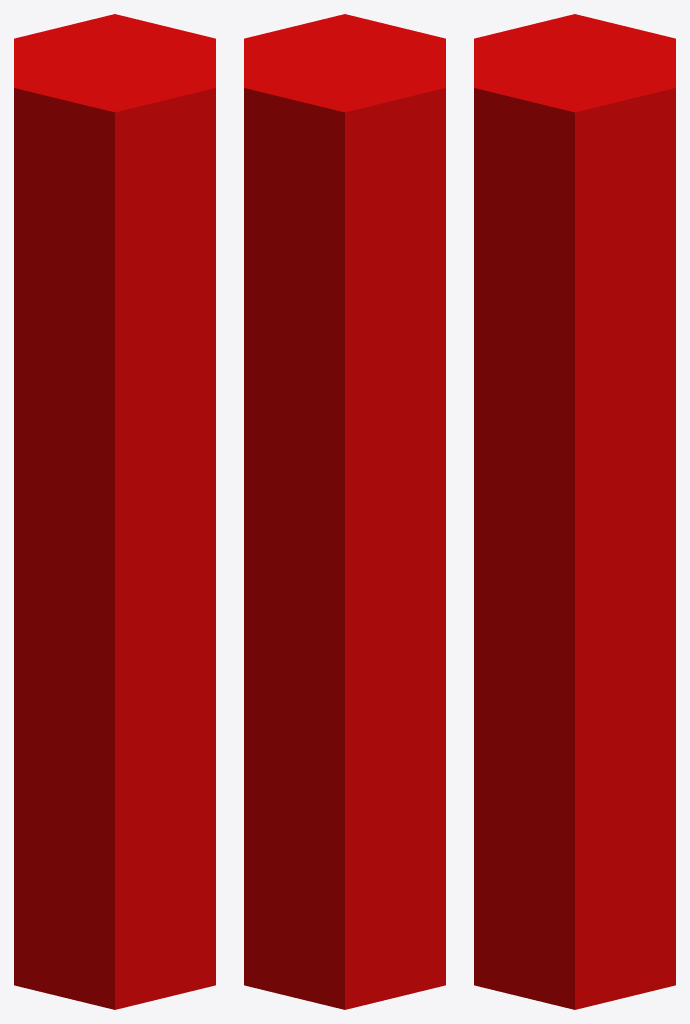
Rendered from door_button.fbx.
The picture shows the model from 3 angles, left to right: view 1: azimuth 30°, elevation 25°; view 2: azimuth 150°, elevation 25°; view 3: azimuth 270°, elevation 25°; orthographic projection.
Parts seen in each view (by area): view 1: Button; view 2: Button; view 3: Button.
Part boxes in pixels (x1,y1,x2,y2): Button: [14, 14, 215, 1009]; Button: [244, 14, 445, 1009]; Button: [474, 14, 675, 1009].
Size of the model in its own units: 2235 by 9497 by 1936.
